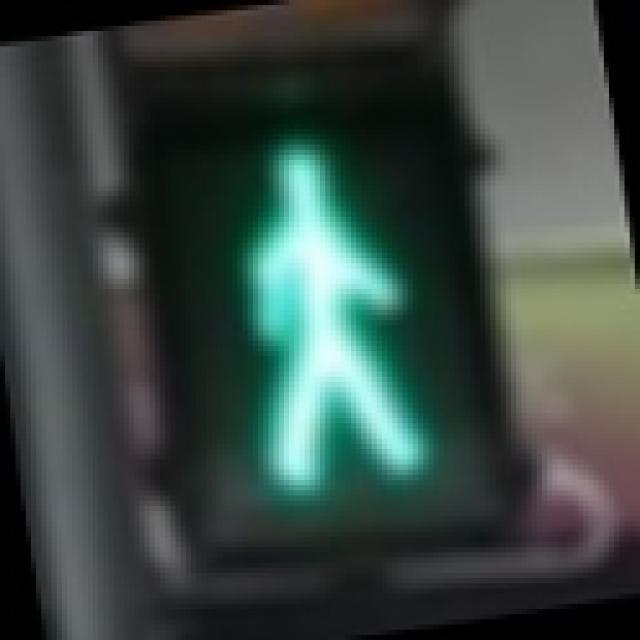geen-crossing: (128, 78, 490, 548)
